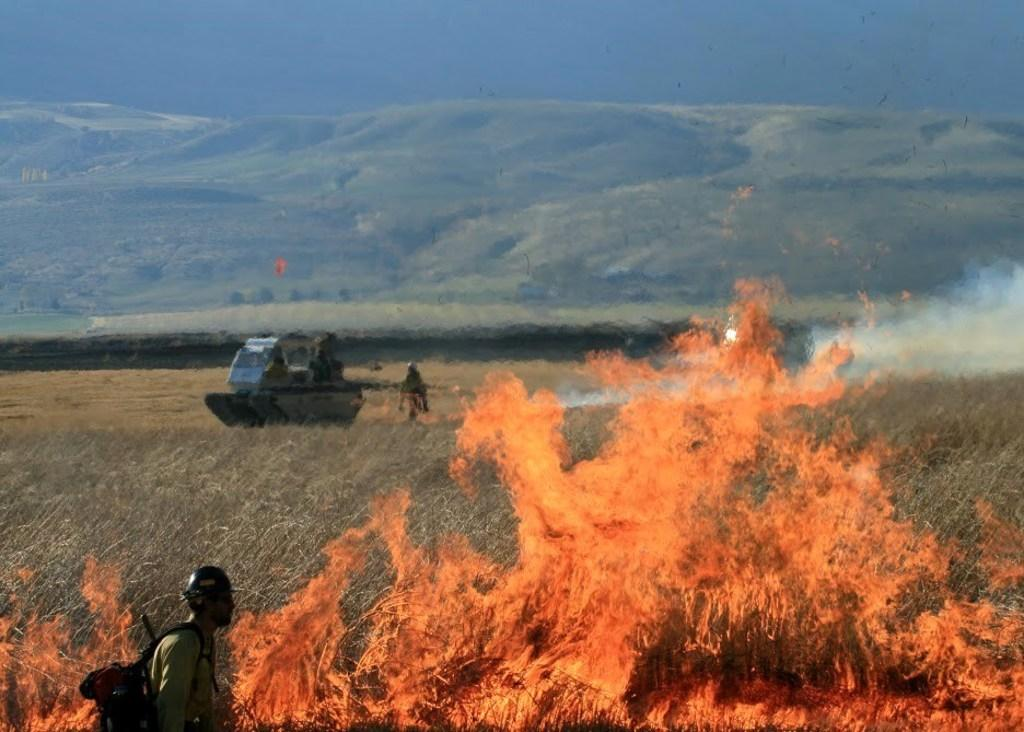Tank: (207, 327, 395, 435)
